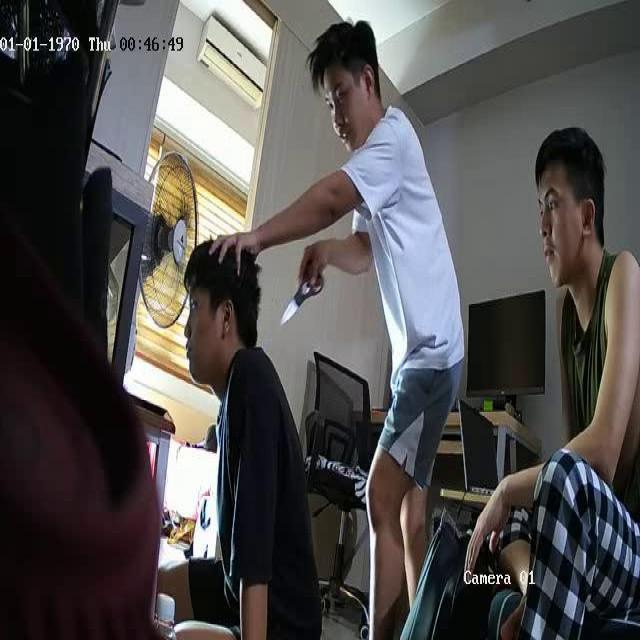scissor: (282, 263, 323, 322)
